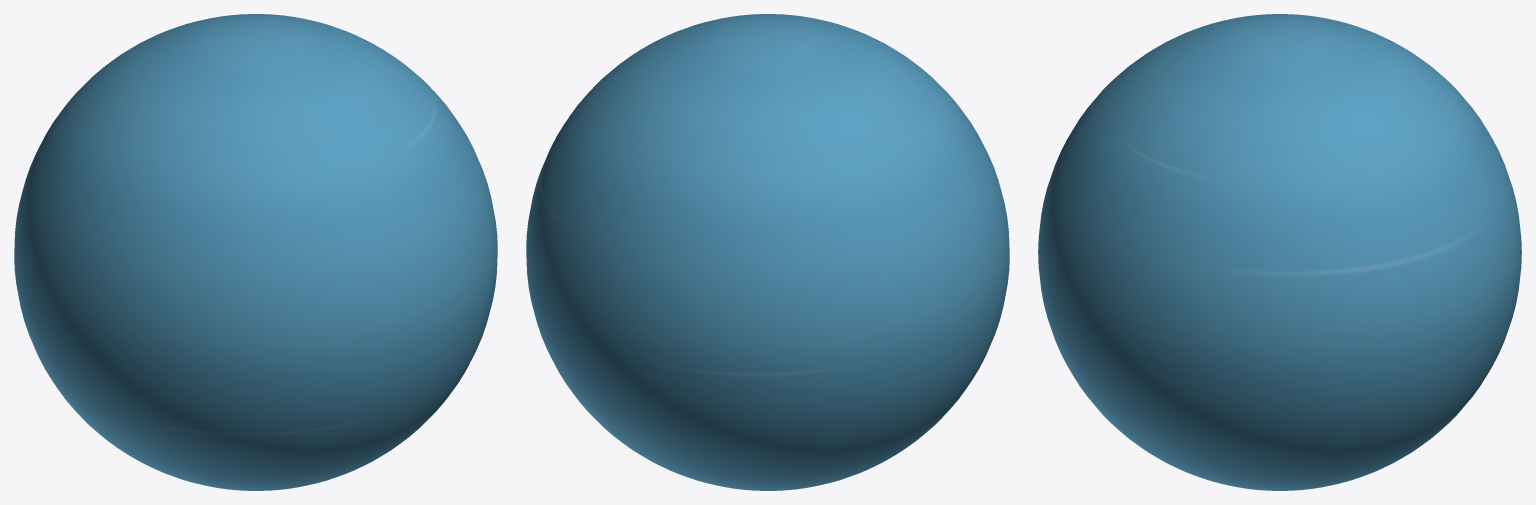
The model's file is neptune.glb.
3 views of the same model, side by side, from view 1: azimuth 30°, elevation 25°; view 2: azimuth 150°, elevation 25°; view 3: azimuth 270°, elevation 25° (orthographic).
Visible parts, largest first — view 1: model; view 2: model; view 3: model.
Part boxes in pixels (x1=…): model: x1=14, y1=14, x2=497, y2=490; model: x1=526, y1=14, x2=1009, y2=490; model: x1=1038, y1=14, x2=1521, y2=490.
Size of the model in its own units: 2.03 by 2 by 2.03.
Materials: 1 (1 with a texture image).
